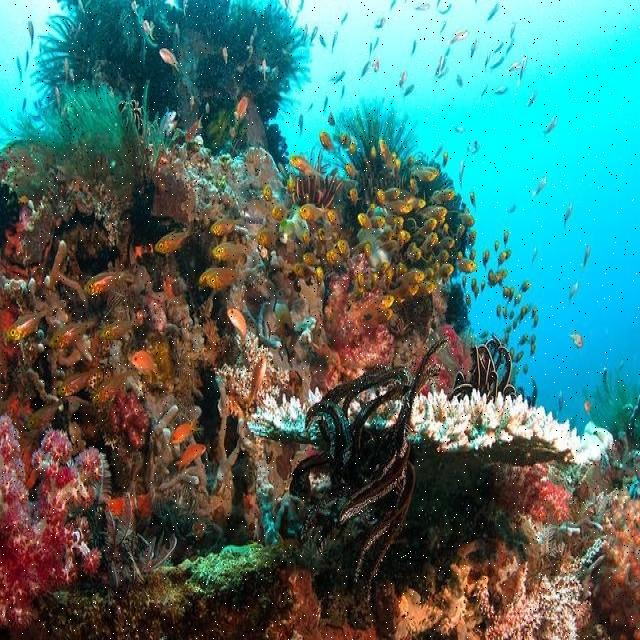fish: (7, 300, 58, 344), (84, 256, 124, 296), (24, 397, 67, 433), (93, 369, 133, 405), (153, 221, 194, 253), (99, 311, 144, 339), (55, 321, 98, 350), (244, 357, 266, 406), (174, 442, 207, 472), (227, 308, 250, 348), (169, 418, 204, 444), (56, 370, 91, 396), (212, 240, 253, 261), (205, 268, 247, 288), (290, 156, 328, 178), (442, 152, 464, 188), (129, 486, 157, 513), (130, 349, 158, 375), (105, 493, 128, 518), (185, 113, 203, 142), (258, 228, 284, 248), (529, 174, 548, 201), (299, 203, 328, 220), (159, 48, 180, 71), (209, 218, 235, 236), (318, 131, 338, 154), (385, 200, 415, 215), (166, 113, 184, 138), (396, 269, 425, 284), (270, 203, 294, 221), (425, 260, 449, 278), (379, 138, 392, 171), (415, 163, 437, 182), (199, 267, 222, 285), (327, 243, 343, 268), (516, 53, 528, 86), (415, 217, 438, 234), (421, 206, 448, 220), (337, 239, 350, 268), (447, 29, 469, 46), (233, 96, 248, 120), (541, 116, 558, 137), (160, 111, 177, 132), (294, 264, 317, 279), (376, 239, 399, 254), (415, 281, 435, 298), (423, 233, 438, 254), (348, 187, 363, 207), (393, 230, 405, 255), (487, 0, 502, 20), (315, 267, 325, 296), (435, 189, 454, 204), (458, 209, 474, 226), (459, 257, 477, 272), (407, 245, 421, 264), (346, 162, 361, 179), (569, 330, 583, 348), (302, 253, 321, 266), (437, 236, 456, 249), (358, 213, 372, 229), (384, 188, 401, 201), (385, 308, 398, 325), (403, 242, 417, 257), (54, 86, 61, 116), (327, 210, 338, 229), (389, 158, 400, 177), (402, 84, 416, 98), (28, 20, 34, 51), (407, 179, 419, 194), (392, 217, 404, 232), (406, 284, 419, 297), (371, 216, 385, 228), (357, 271, 365, 292), (384, 295, 395, 310), (437, 250, 450, 262), (531, 379, 537, 405), (518, 280, 530, 293), (456, 251, 463, 273), (361, 61, 371, 76), (263, 184, 272, 200), (376, 189, 384, 207), (262, 59, 268, 82), (370, 273, 378, 290), (416, 198, 427, 210), (507, 286, 515, 302), (332, 31, 338, 52), (444, 263, 454, 275), (498, 251, 506, 266), (402, 229, 411, 242), (364, 243, 371, 258), (367, 203, 375, 216), (502, 286, 510, 299), (442, 223, 449, 236), (436, 217, 445, 227), (503, 231, 509, 246), (299, 115, 303, 137), (457, 225, 465, 235)
reefs: (246, 333, 615, 630), (0, 407, 104, 631), (389, 540, 610, 639), (316, 253, 397, 395), (210, 329, 290, 427), (498, 461, 588, 544), (177, 541, 294, 600)
